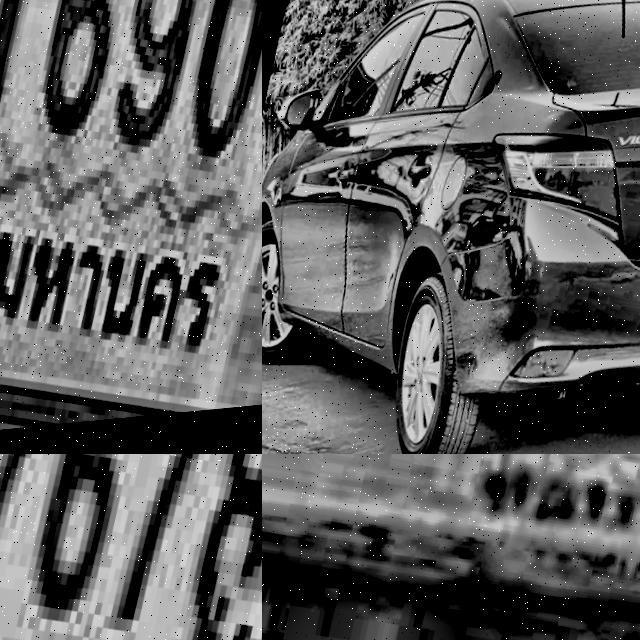license-plate: (0, 0, 262, 454), (262, 454, 640, 640), (0, 454, 262, 640)
